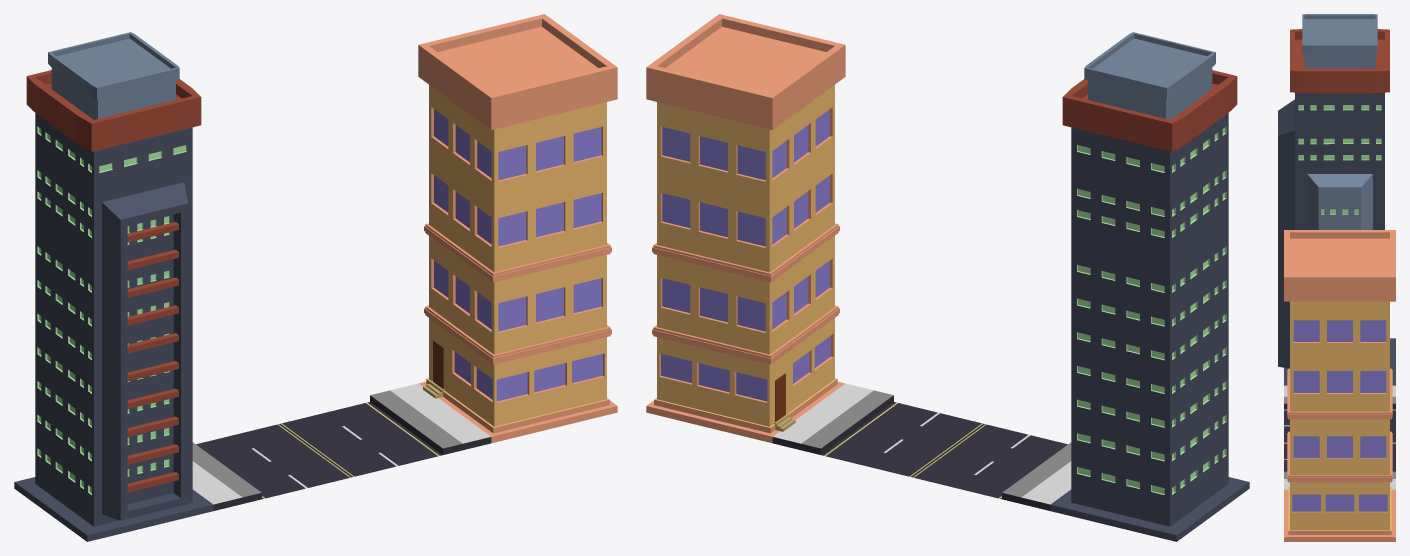
Rendered from Road set 1.fbx.
3 views of the same model, side by side, from view 1: azimuth 30°, elevation 25°; view 2: azimuth 150°, elevation 25°; view 3: azimuth 270°, elevation 25° (orthographic). The views are drawn at different scales.
Visible parts, largest first — view 1: ROad - set - 1; view 2: ROad - set - 1; view 3: ROad - set - 1.
Boxes of the visible parts, <box> form: ROad - set - 1: <box>14,14,617,541</box>; ROad - set - 1: <box>646,14,1249,541</box>; ROad - set - 1: <box>1278,14,1395,541</box>.
Bounding box in the file's own units: 42 × 33.28 × 10.54.
